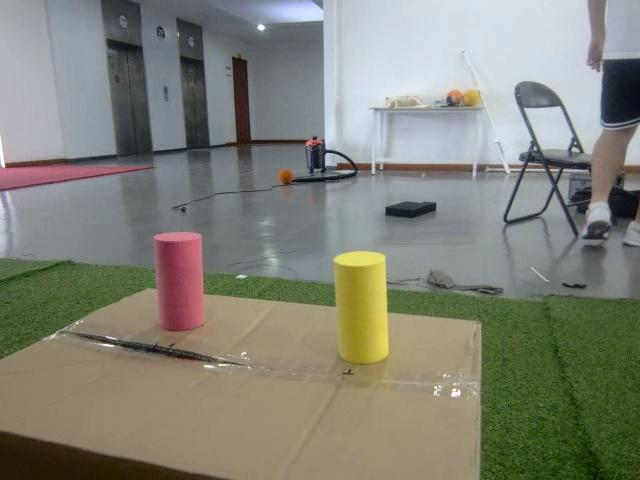red_cylinder: (153, 232, 205, 332)
yellow_cylinder: (332, 250, 388, 364)
